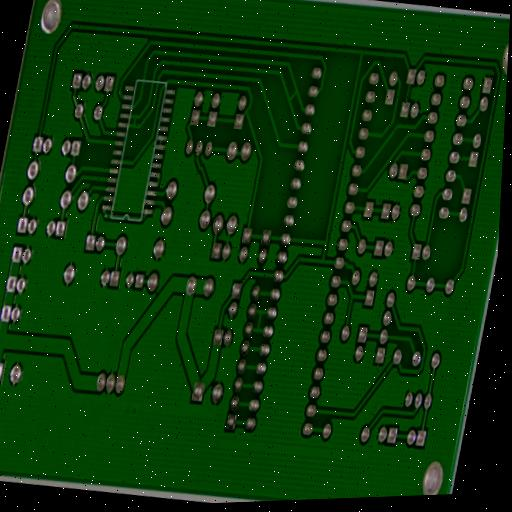short_circuit: (247, 305, 270, 338), (282, 81, 303, 111), (128, 112, 142, 132)
